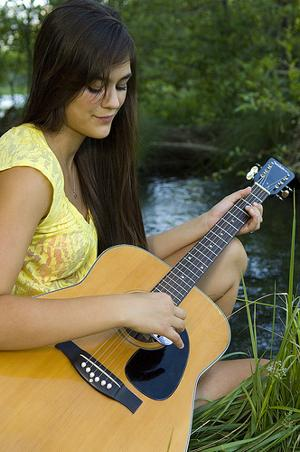person: (2, 4, 277, 409)
